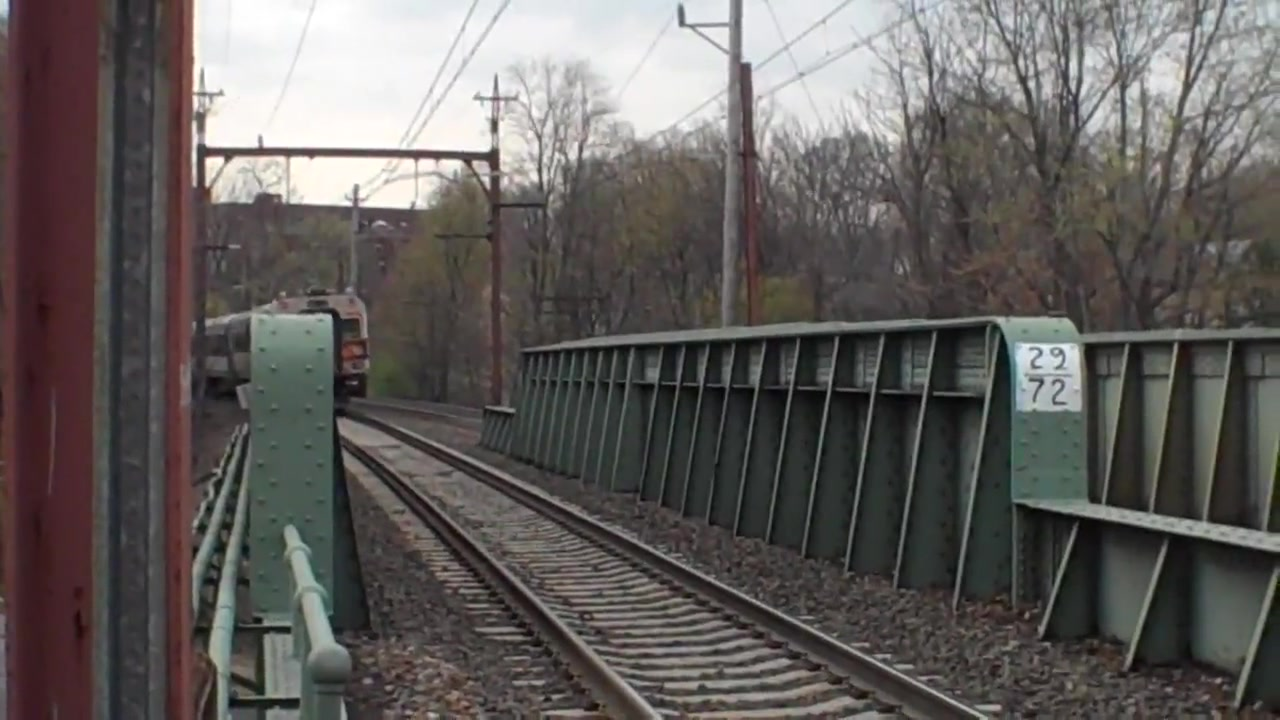train: (193, 286, 374, 409)
